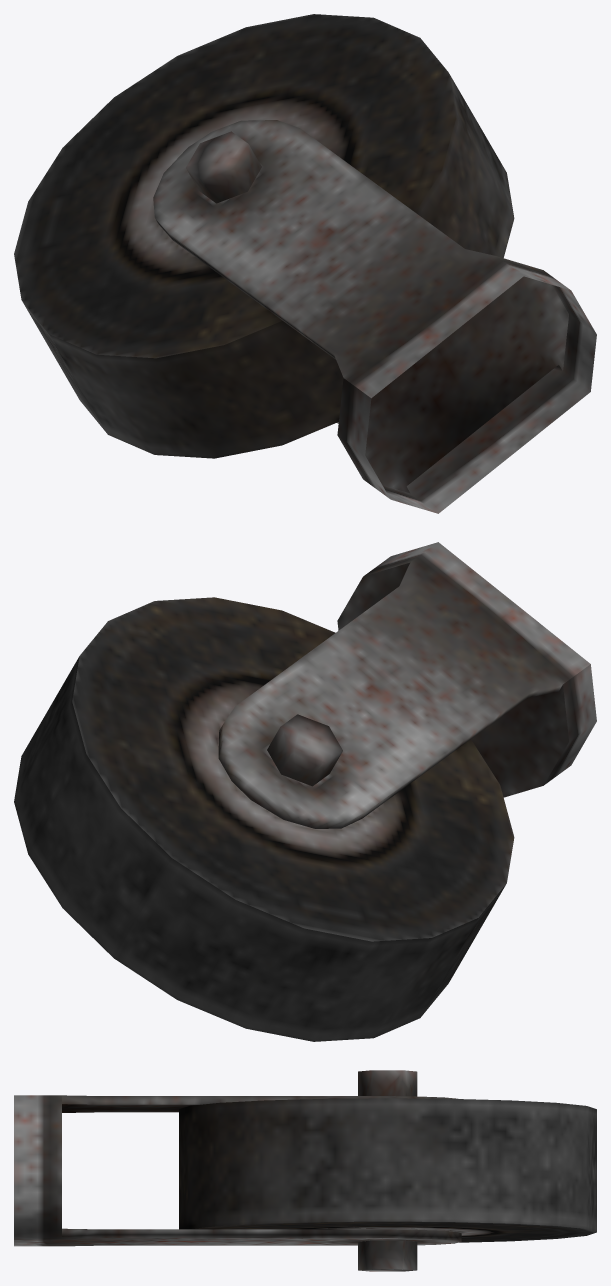
File: Tool_Cabinet_Wheel_Back_low.obj
3 renders of one model, top to bottom at view 1: azimuth 30°, elevation 25°; view 2: azimuth 150°, elevation 25°; view 3: azimuth 270°, elevation 25°, orthographic. The views are drawn at different scales.
Bounding box in the file's own units: 0.1038 × 0.0742 × 0.1418.
1 material, 1 textured.
